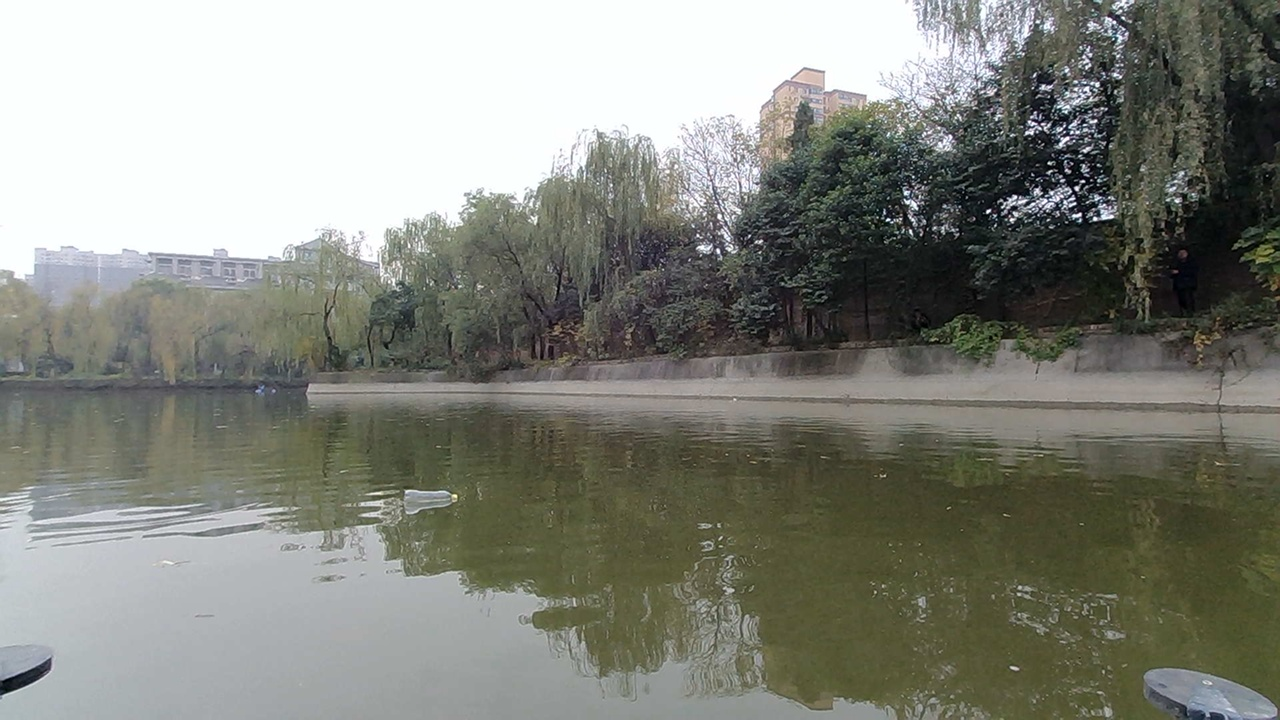bottle: (381, 470, 473, 525)
